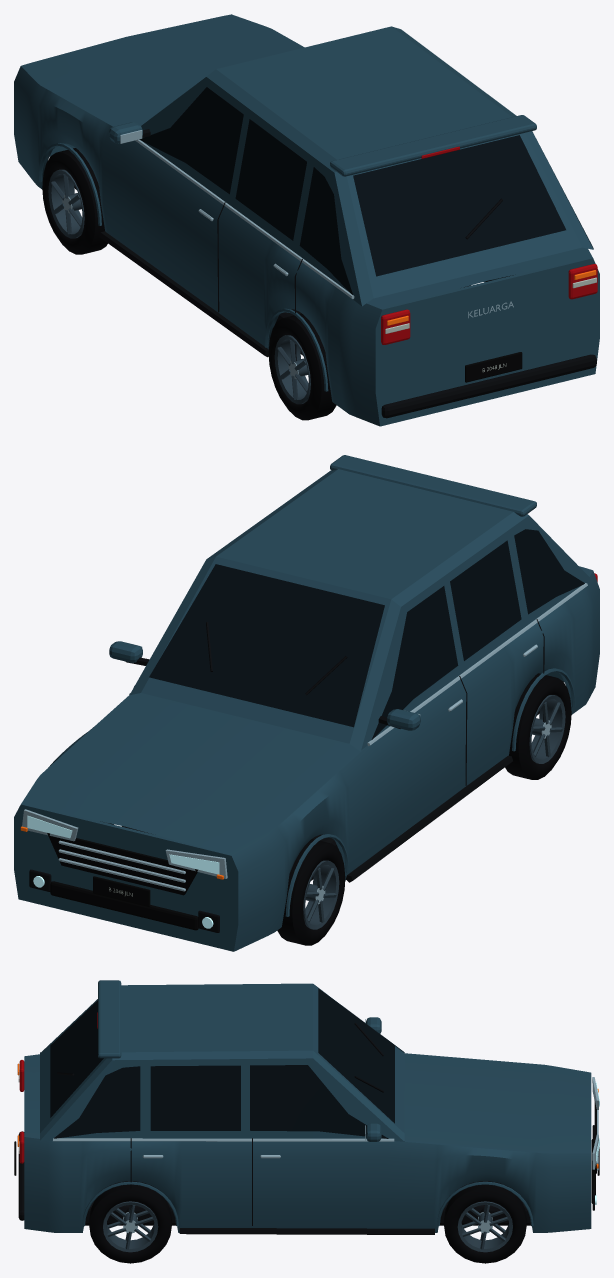
File: family_mpv_deep_blue.glb
The picture shows the model from 3 angles, top to bottom: view 1: azimuth 30°, elevation 25°; view 2: azimuth 150°, elevation 25°; view 3: azimuth 270°, elevation 25°; orthographic projection. The views are drawn at different scales.
Visible parts, largest first — view 1: Body_Mesh, Wheel_RL_Mesh, Wheel_FL_Mesh, TailLights_Mesh; view 2: Body_Mesh, Wheel_FL_Mesh, Wheel_RL_Mesh, Headlights_Mesh; view 3: Body_Mesh, Wheel_RR_Mesh, Wheel_FR_Mesh, TailLights_Mesh.
Part boxes in pixels (x1,y1,x2,y2): Body_Mesh: (14,14,599,426); Wheel_RL_Mesh: (268,313,336,420); Wheel_FL_Mesh: (42,148,107,254); TailLights_Mesh: (381,146,597,344); Body_Mesh: (14,455,599,951); Wheel_FL_Mesh: (277,839,345,945); Wheel_RL_Mesh: (505,673,571,779); Headlights_Mesh: (22,809,227,928); Body_Mesh: (14,980,599,1234); Wheel_RR_Mesh: (89,1184,171,1263); Wheel_FR_Mesh: (444,1184,526,1263); TailLights_Mesh: (18,1012,97,1163).
Bounding box in the file's own units: 2.15 × 1.7 × 4.54.
Materials: 2 (1 with a texture image).
